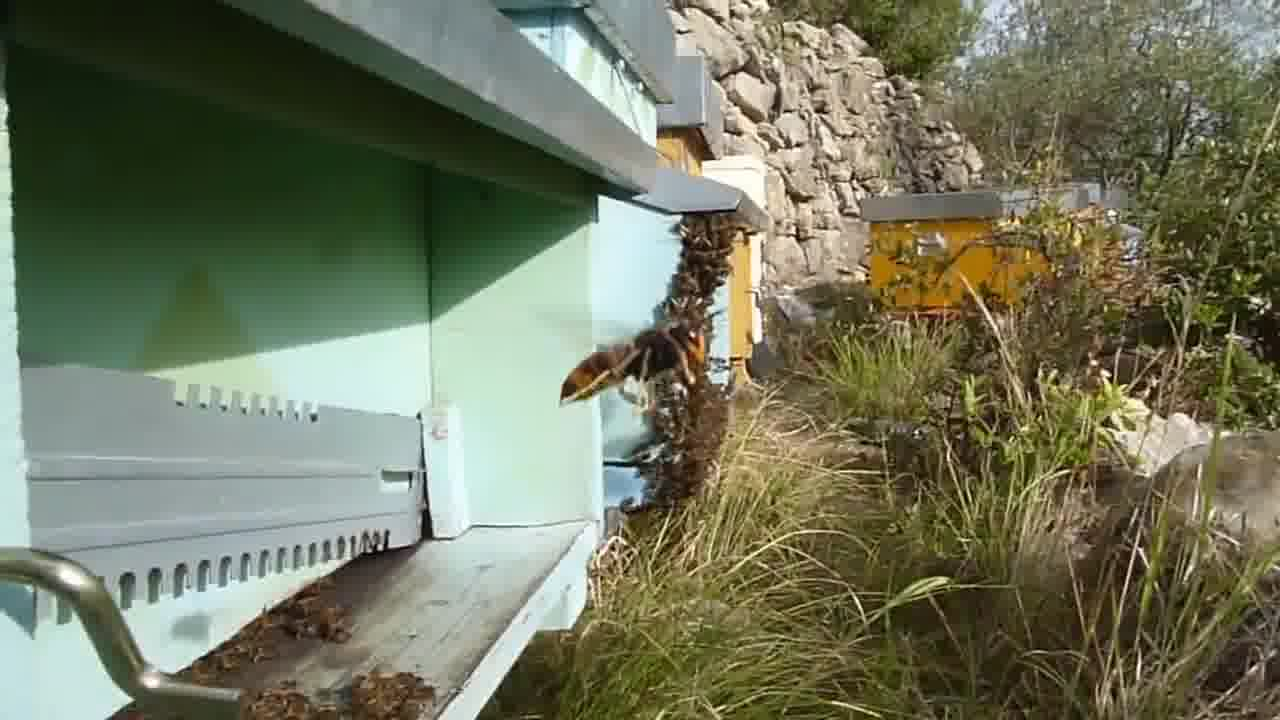bee: (257, 667, 444, 720), (673, 212, 738, 304), (647, 413, 720, 489), (276, 586, 353, 645)
hornet: (548, 304, 716, 411)
